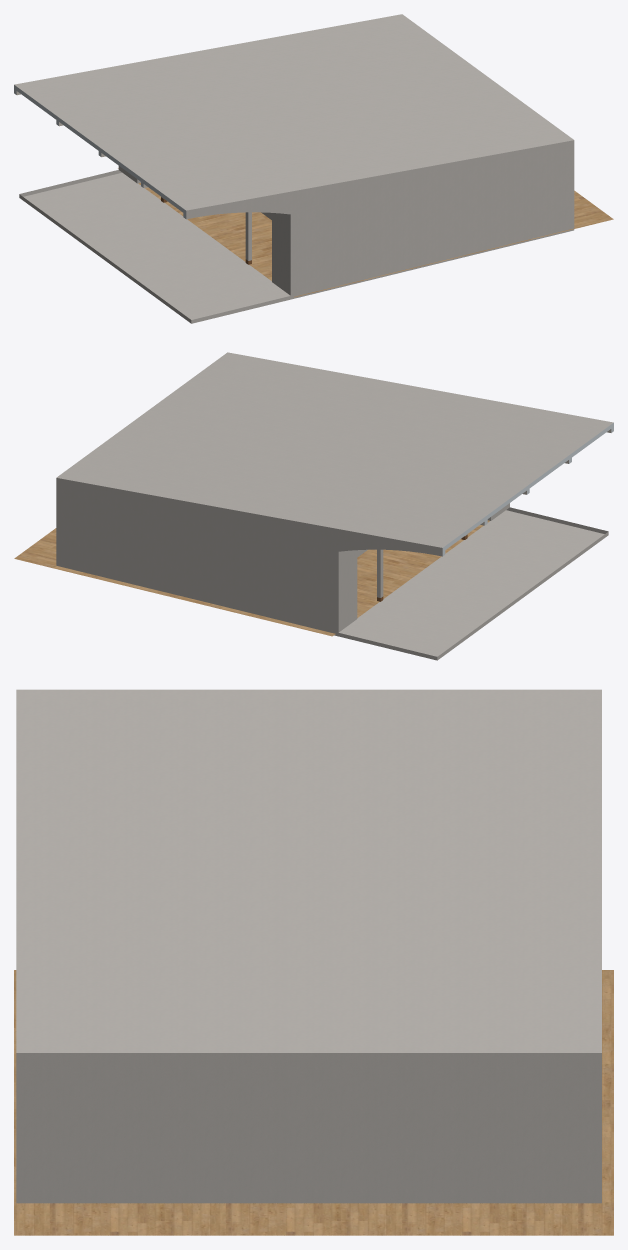
The picture shows the model from 3 angles, top to bottom: view 1: azimuth 30°, elevation 25°; view 2: azimuth 150°, elevation 25°; view 3: azimuth 270°, elevation 25°; orthographic projection. The views are drawn at different scales.
Visible parts, largest first — view 1: Material2.002, Plane.012, Material2.012; view 2: Material2.002, Plane.012, Material2.012; view 3: Material2.002, Plane.012.
Part boxes in pixels (left/top/right/bottom): Material2.002: left=14, top=14, right=574, bottom=323; Plane.012: left=118, top=168, right=613, bottom=297; Material2.012: left=14, top=85, right=186, bottom=218; Material2.002: left=56, top=352, right=613, bottom=660; Plane.012: left=14, top=520, right=489, bottom=636; Material2.012: left=442, top=423, right=613, bottom=555; Material2.002: left=16, top=689, right=601, bottom=1203; Plane.012: left=14, top=970, right=613, bottom=1235.
Bounding box in the file's own units: 713 × 183 × 510.
Materials: 22 (16 with a texture image).
